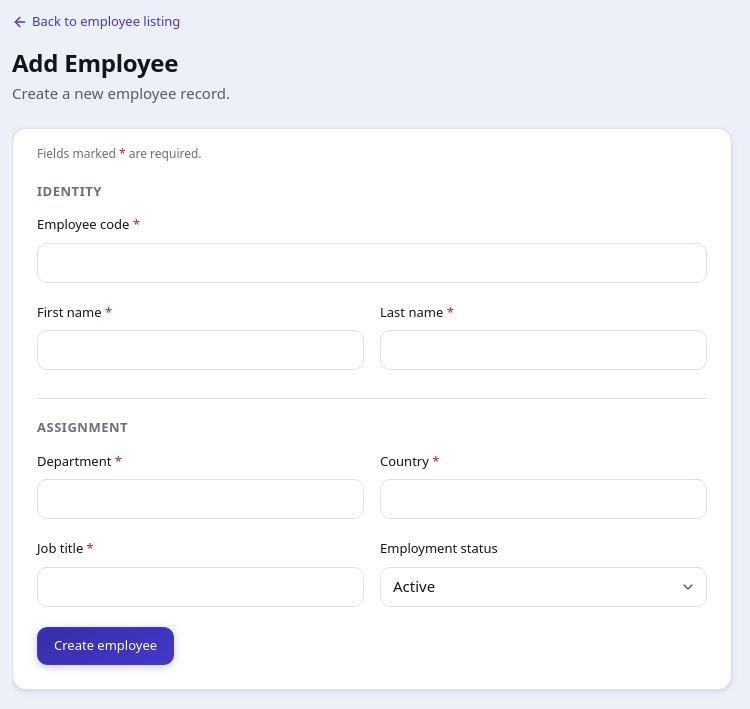
Test: EmployeeCreatePage › shows a clear success state, with the created employee, only after the API confirms creation
expect the text "created successfully" is not shown: met
Type "EMP-010" into the field labelled "Employee code *" at (372, 263), box [37,243,707,283]
Type "Grace" into the field labelled "First name *" at (200, 350), box [37,330,364,370]
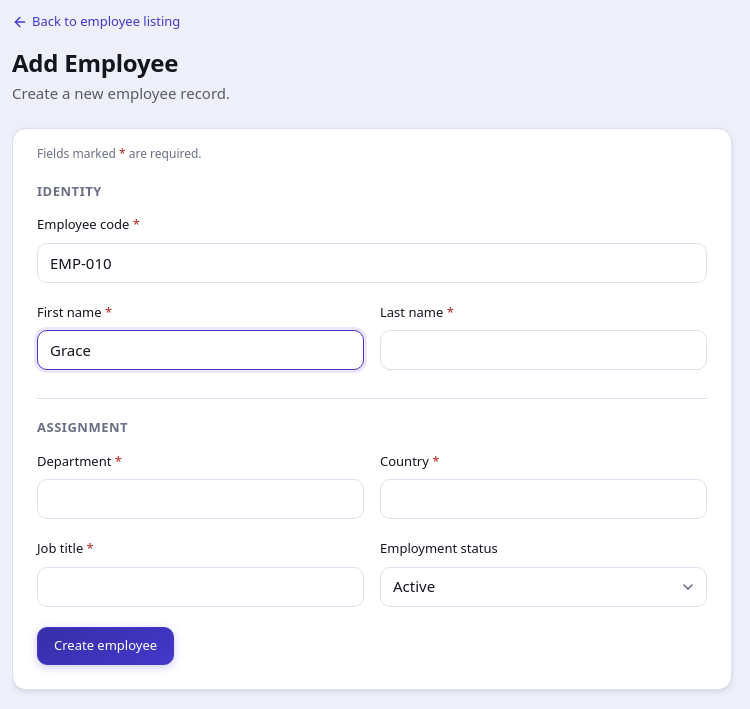
Type "Hopper" into the field labelled "Last name *" at (544, 350), box [380,330,707,370]
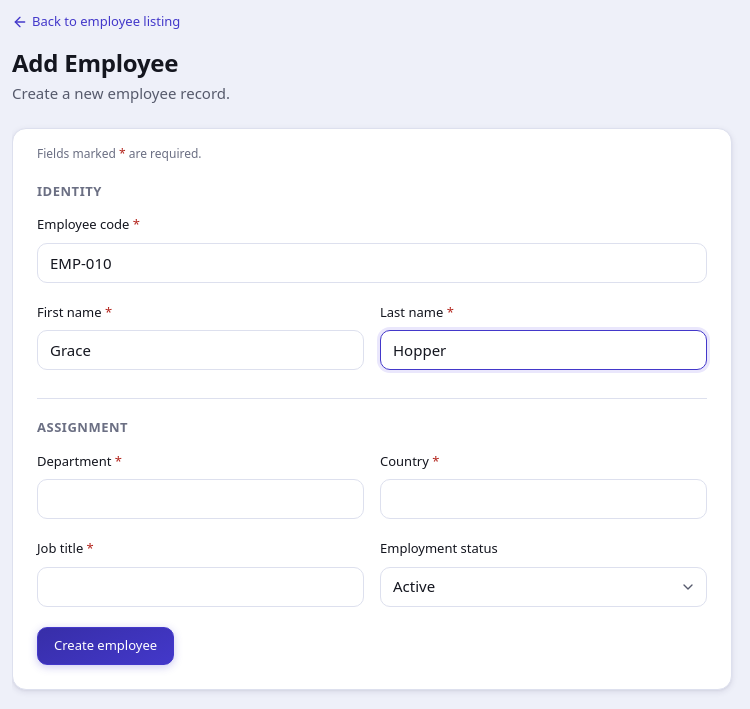
Type "Research" into the field labelled "Department *" at (200, 499), box [37,479,364,519]
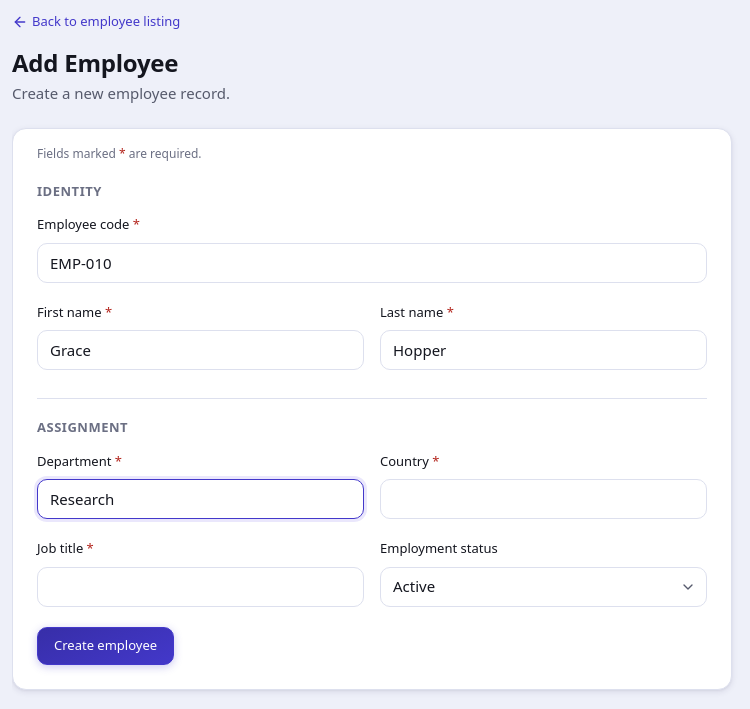
Type "United States" into the field labelled "Country *" at (544, 499), box [380,479,707,519]
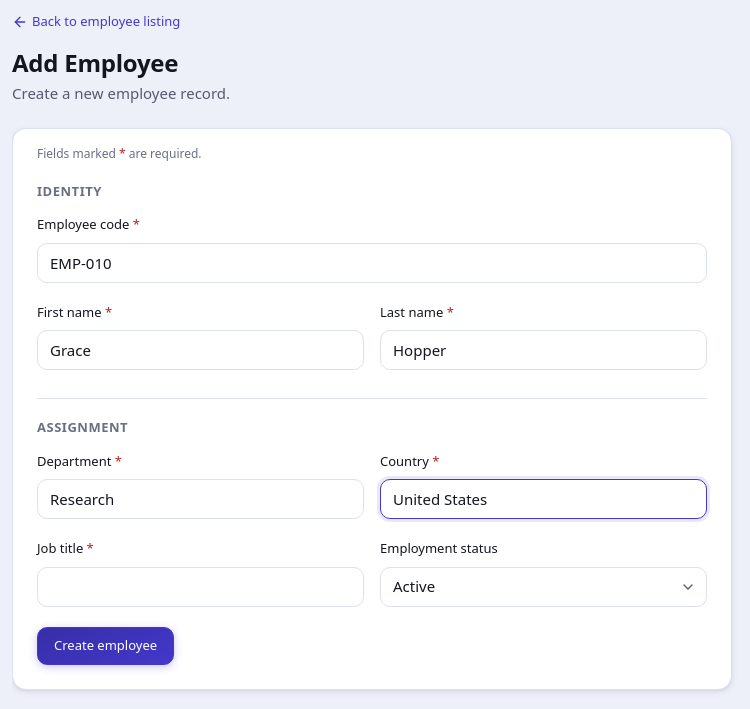
Type "Rear Admiral" into the field labelled "Job title *" at (200, 586), box [37,566,364,606]
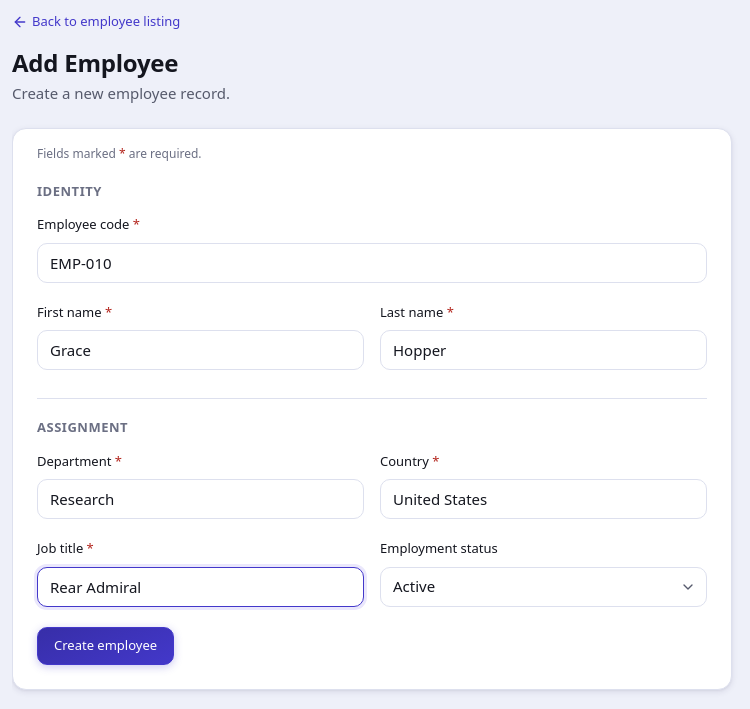
Click the button "Create employee" at (106, 646), box [37,626,174,664]
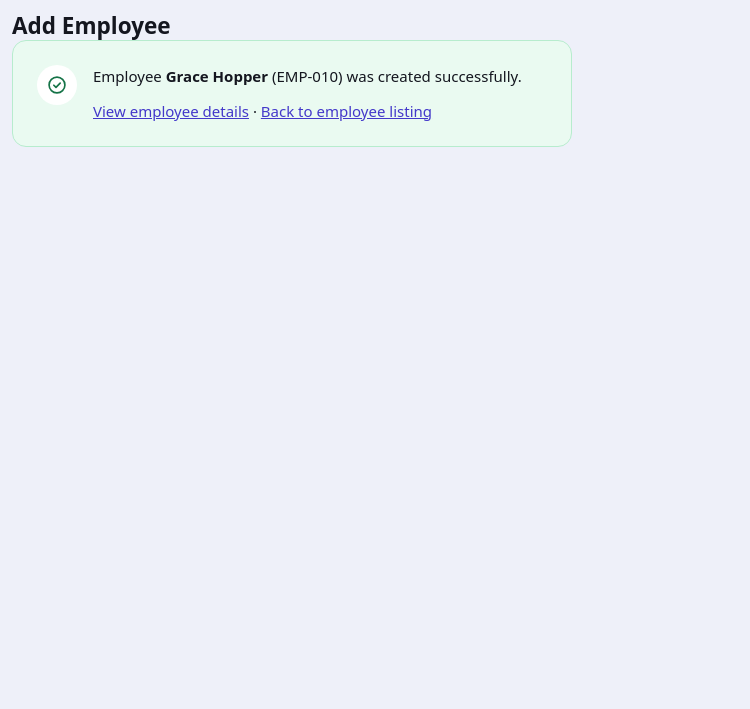
expect the text "Employee Grace Hopper (EMP-010) was created successfully." is shown: met, box [93,65,522,88]
